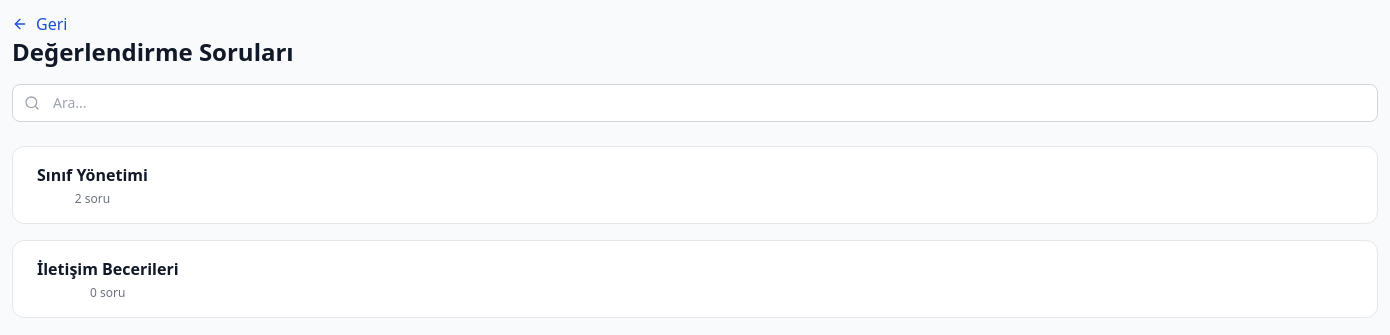
Test: QuestionsPage › arama ile kriter filtreler
Expected: the heading "Sınıf Yönetimi" is shown, [37,163,148,187]
Expected: the heading "İletişim Becerileri" is shown, [37,257,179,281]
Type "İletişim" into the field at (695, 103), box [12,84,1378,122]
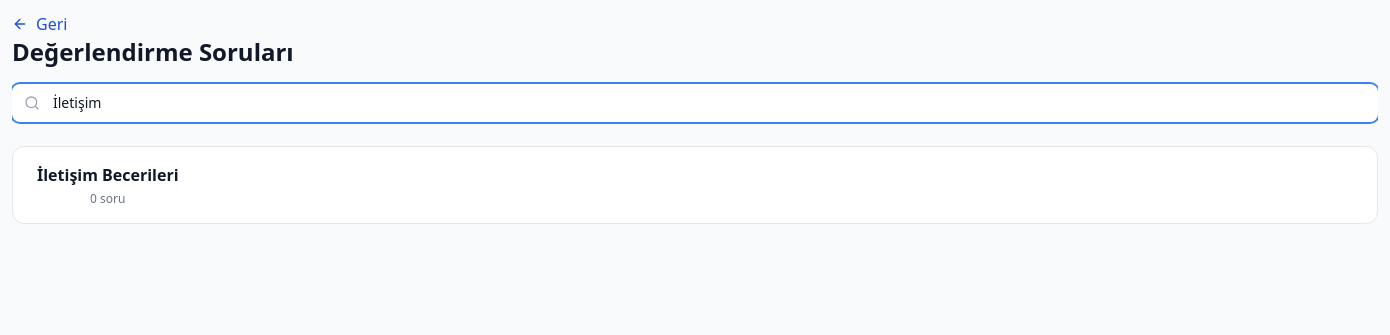
Expected: the heading "İletişim Becerileri" is shown, [37,163,179,187]
Now the button "Sınıf Yönetimi" is gone
